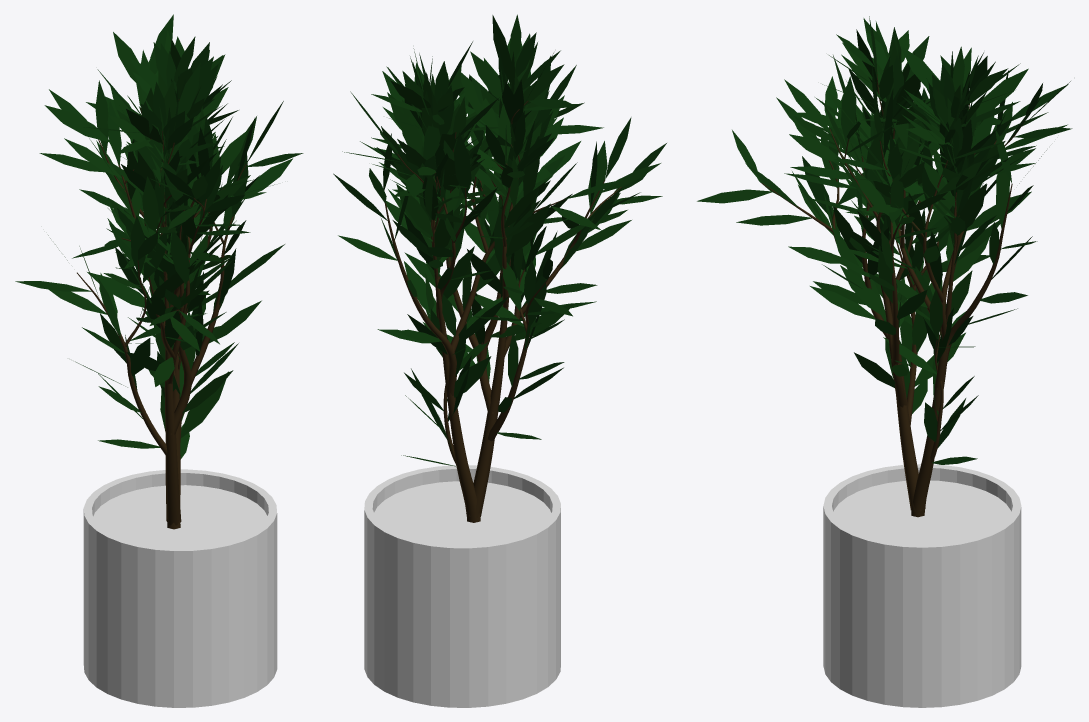
The model's file is plant.fbx.
3 views of the same model, side by side, from view 1: azimuth 30°, elevation 25°; view 2: azimuth 150°, elevation 25°; view 3: azimuth 270°, elevation 25° (orthographic). The views are drawn at different scales.
Parts seen in each view (by area): view 1: Plant_Indoors, Plant_Hold; view 2: Plant_Indoors, Plant_Hold; view 3: Plant_Indoors, Plant_Hold.
Part boxes in pixels (x1,y1,x2,y2): Plant_Indoors: (15,14,303,529); Plant_Hold: (83,469,277,707); Plant_Indoors: (333,14,666,522); Plant_Hold: (364,465,560,707); Plant_Indoors: (697,16,1072,517); Plant_Hold: (823,464,1021,707).
Size of the model in its own units: 90.55 by 220 by 118.
